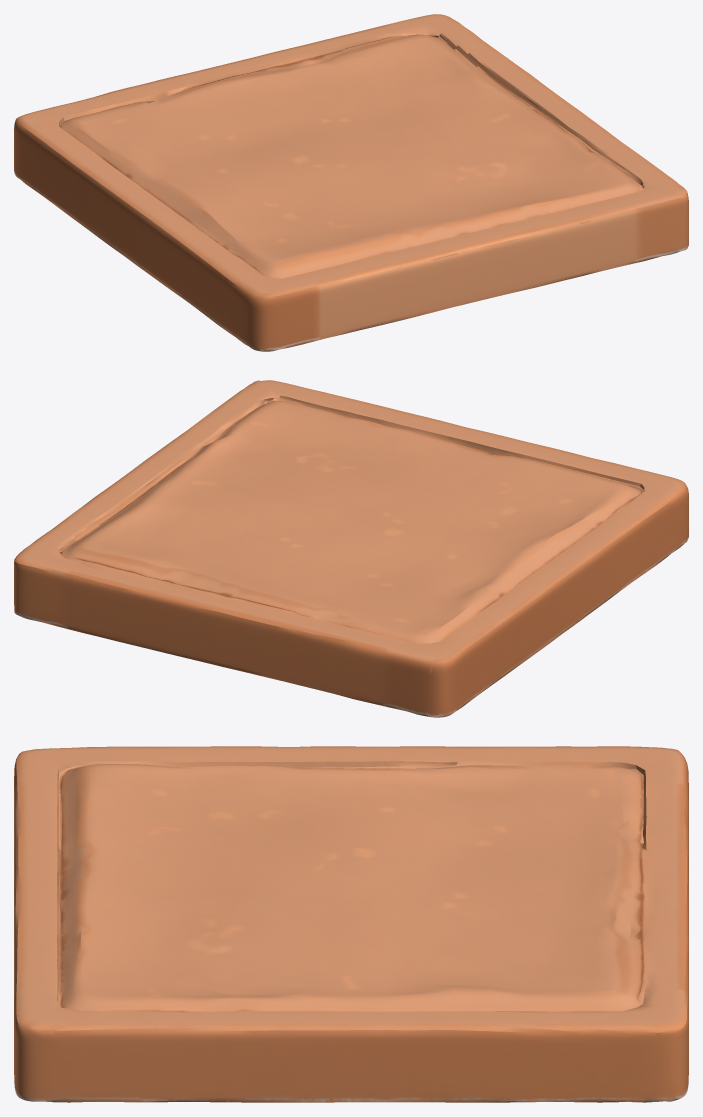
Rendered from Meshy_AI_A_single_stylized_lo_0308105445_texture.fbx.
3 renders of one model, top to bottom at view 1: azimuth 30°, elevation 25°; view 2: azimuth 150°, elevation 25°; view 3: azimuth 270°, elevation 25°, orthographic. The views are drawn at different scales.
Parts seen in each view (by area): view 1: Mesh0; view 2: Mesh0; view 3: Mesh0.
Part boxes in pixels (x1=…): Mesh0: x1=14, y1=14, x2=688, y2=351; Mesh0: x1=14, y1=380, x2=688, y2=717; Mesh0: x1=14, y1=746, x2=688, y2=1102.
Size of the model in its own units: 192 by 25.98 by 192.
Materials: 1 (1 with a texture image).
